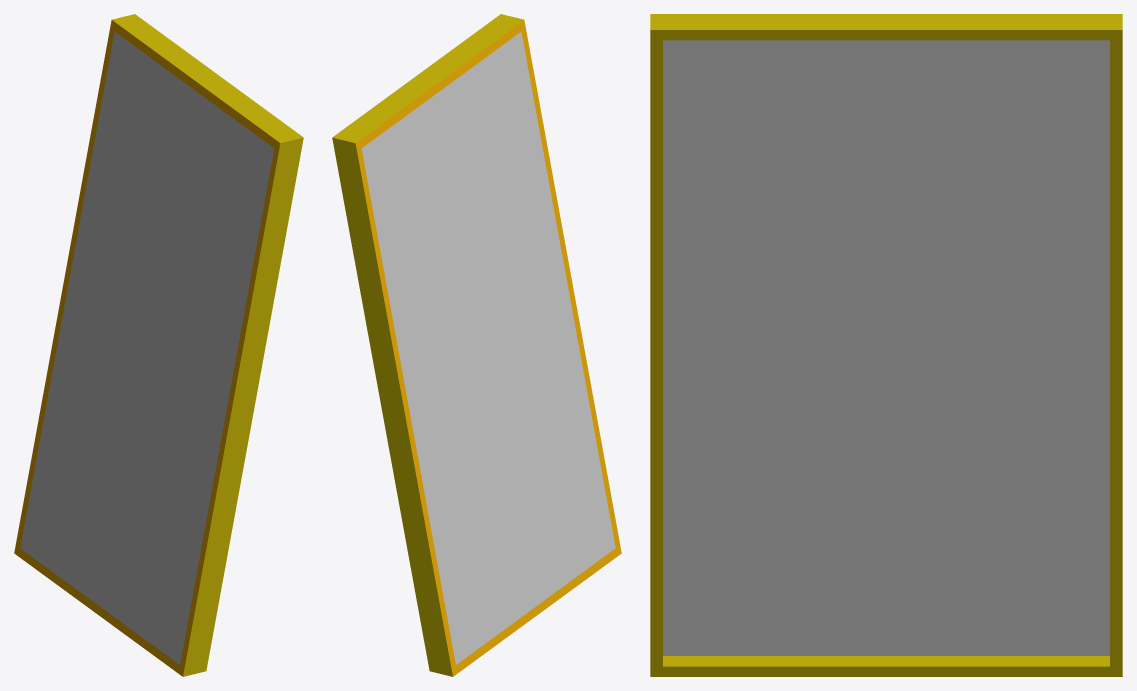
The model's file is window_slanted_3x1x5.dae.
The picture shows the model from 3 angles, left to right: view 1: azimuth 30°, elevation 25°; view 2: azimuth 150°, elevation 25°; view 3: azimuth 270°, elevation 25°; orthographic projection. The views are drawn at different scales.
Parts seen in each view (by area): view 1: Cube; view 2: Cube; view 3: Cube.
Boxes of the visible parts, bbox=[...] form: Cube: bbox=[14, 14, 303, 676]; Cube: bbox=[332, 14, 621, 676]; Cube: bbox=[650, 14, 1122, 676].
Size of the model in its own units: 0.31 by 0.75 by 1.25.
